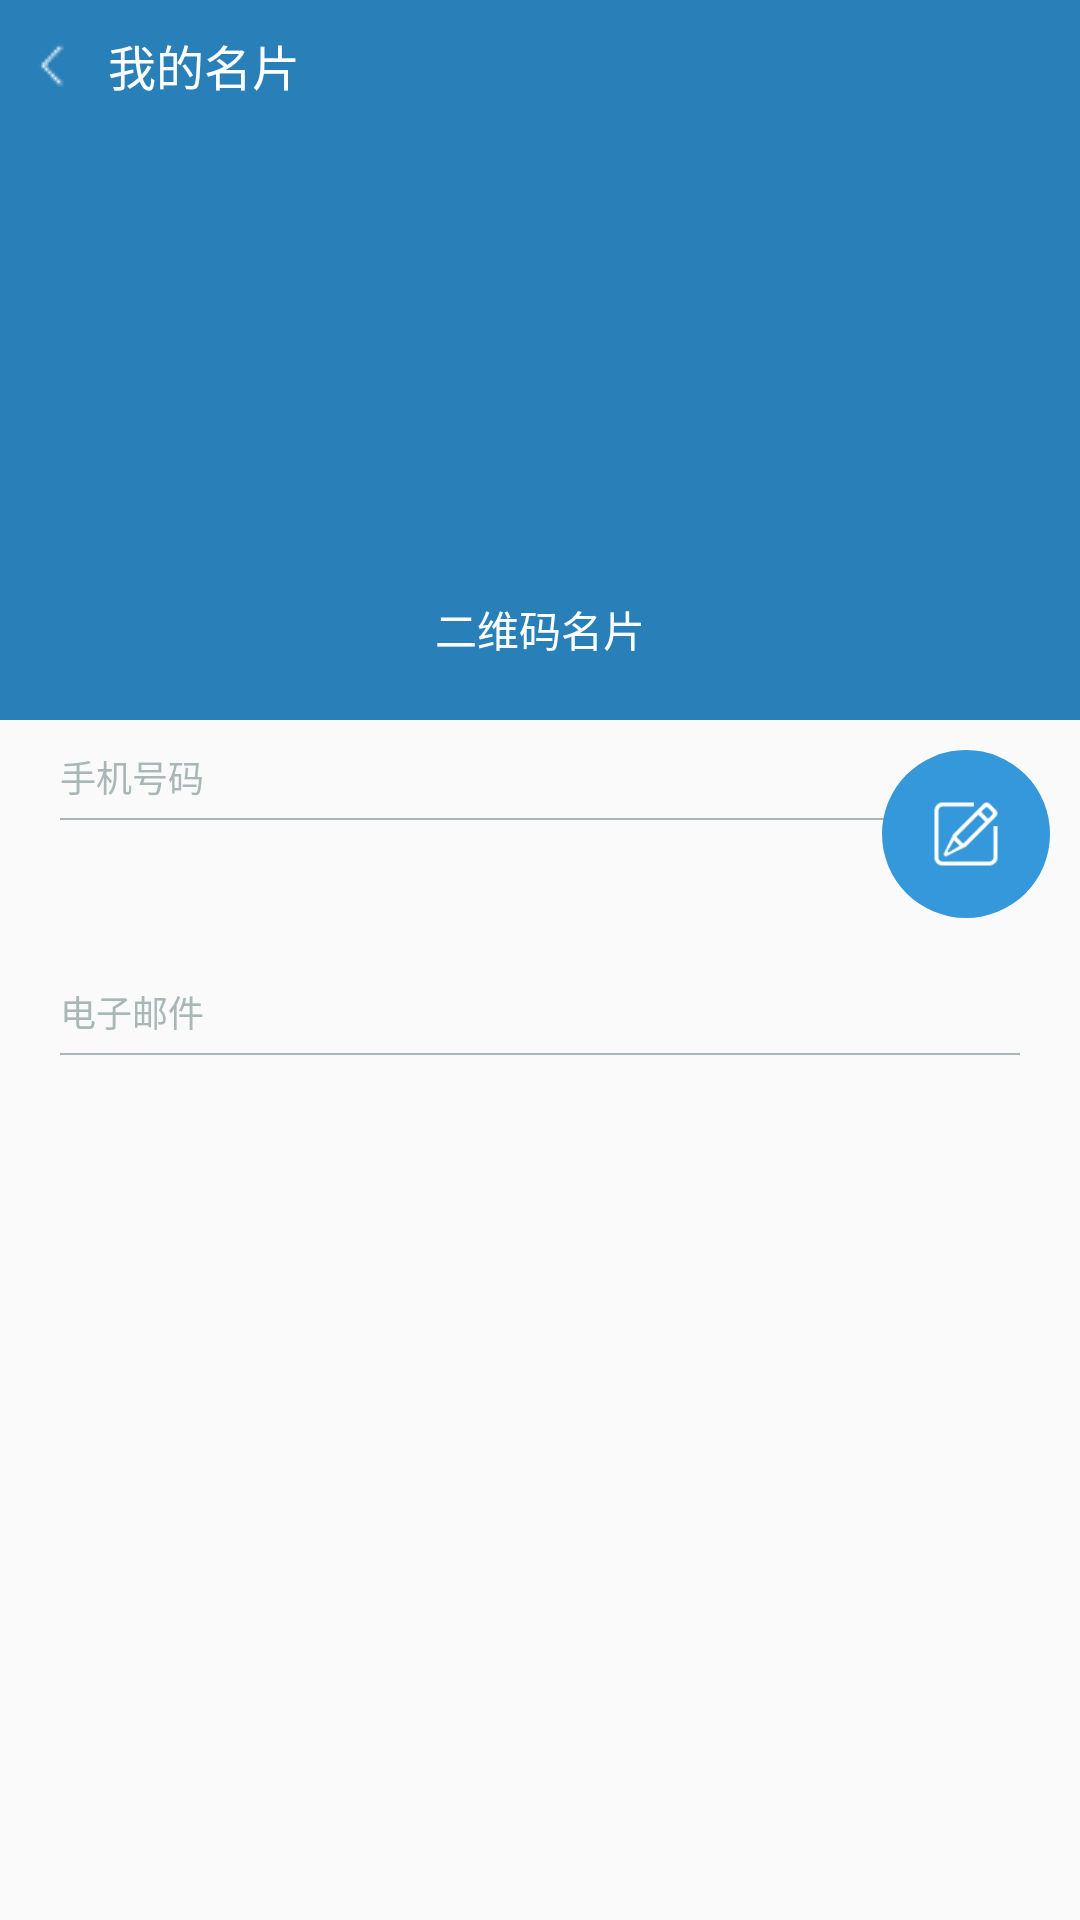

Where to tap for icons on this 1080 × 1920 app screen, as (x=x, y=y):
fab edit: (x=966, y=834)
